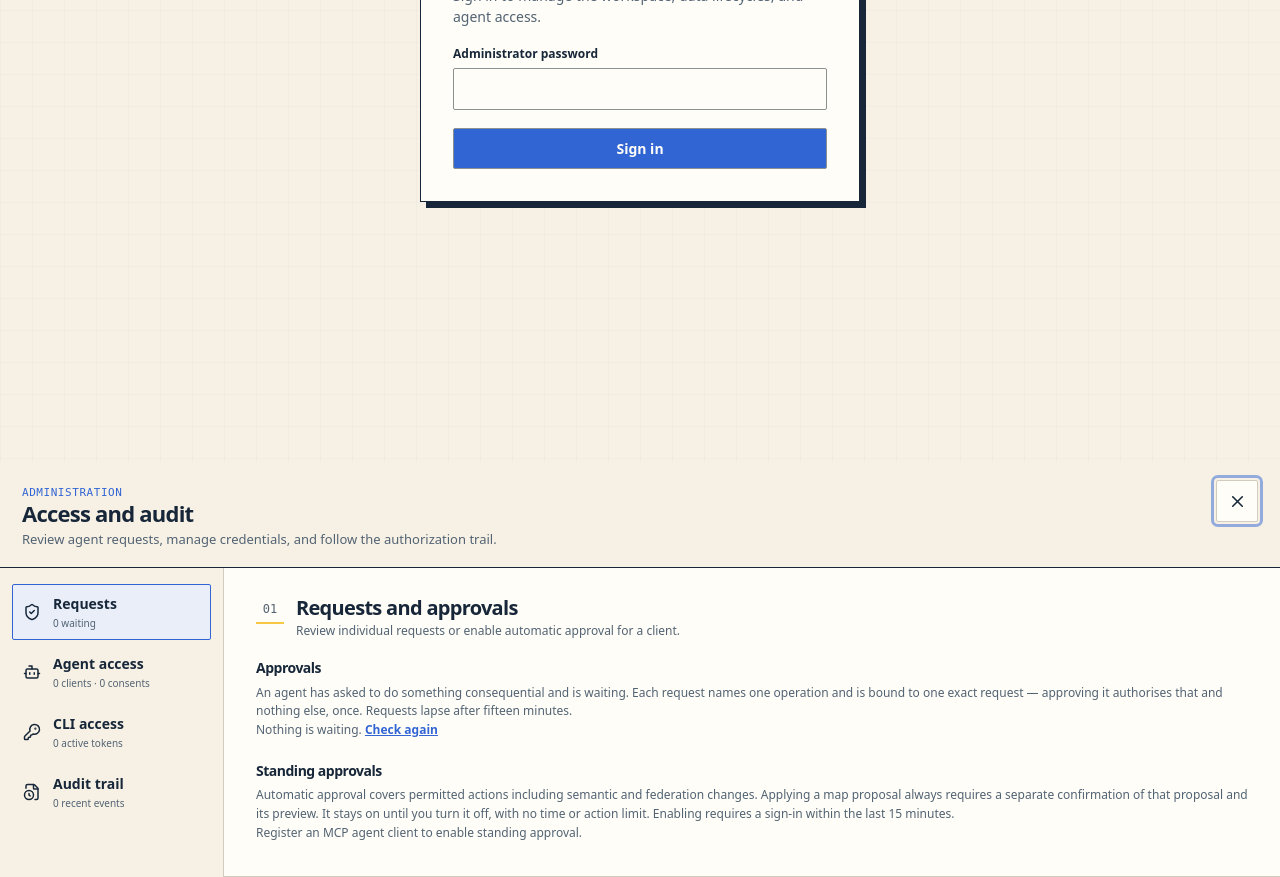
Scenario: Scoped token administration › hides empty pending devices and expands every stored token permission
(page scrolled)
Click the button "CLI access 0 active tokens" at (112, 732), box [12, 704, 211, 760]
(page scrolled)
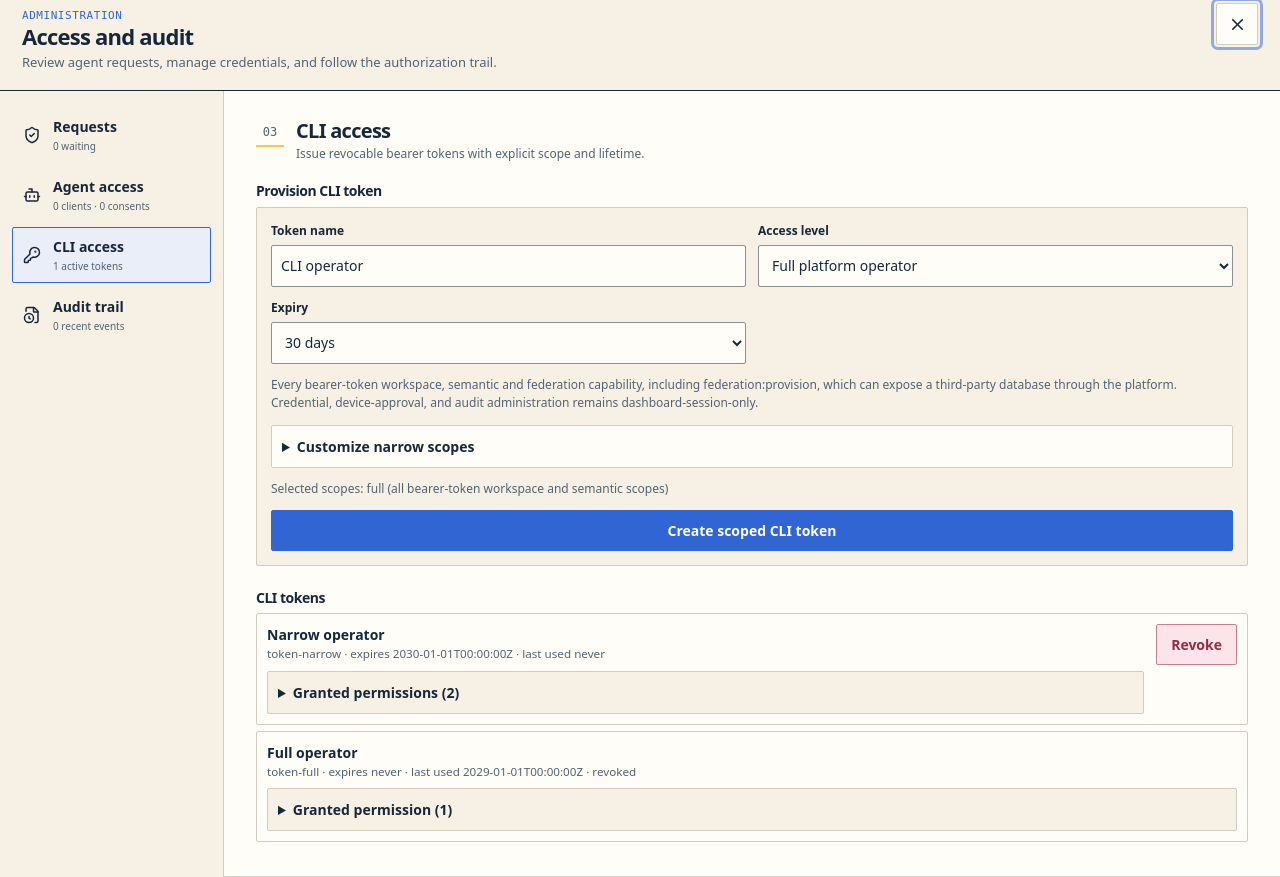
Check: the text "Narrow operator" is shown, box [267, 625, 385, 644]
Click the heading "Granted permissions (2)" at (376, 692), box [293, 683, 459, 702]
(page scrolled)
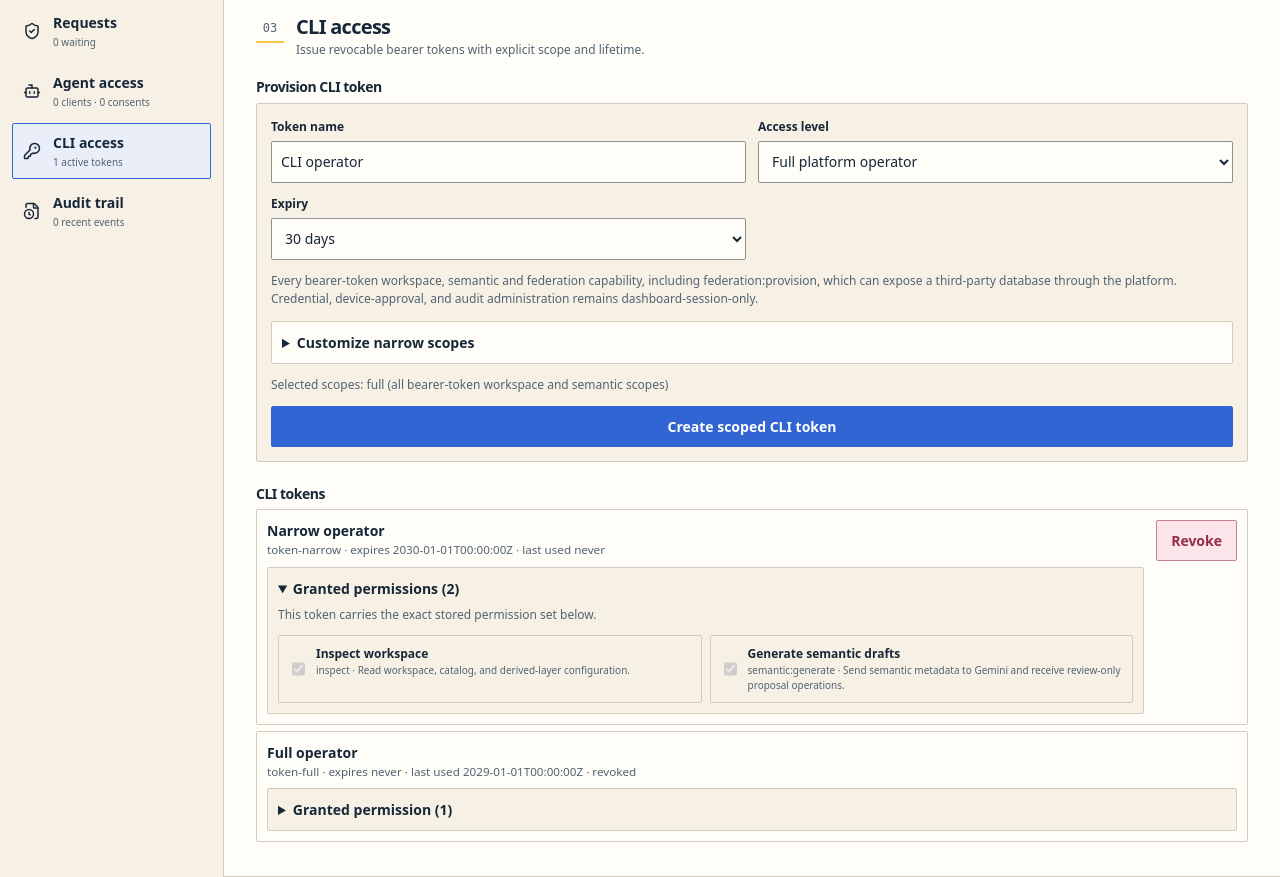
Check: the number of checkboxes is 2, box [292, 648, 305, 690]; [724, 648, 737, 690]
Check: the checkbox labelled "Inspect workspace" is checked, box [292, 648, 305, 690]
Check: the checkbox labelled "Inspect workspace" is disabled, box [292, 648, 305, 690]
Click the heading "Granted permission (1)" at (372, 810), box [293, 800, 452, 819]
(page scrolled)
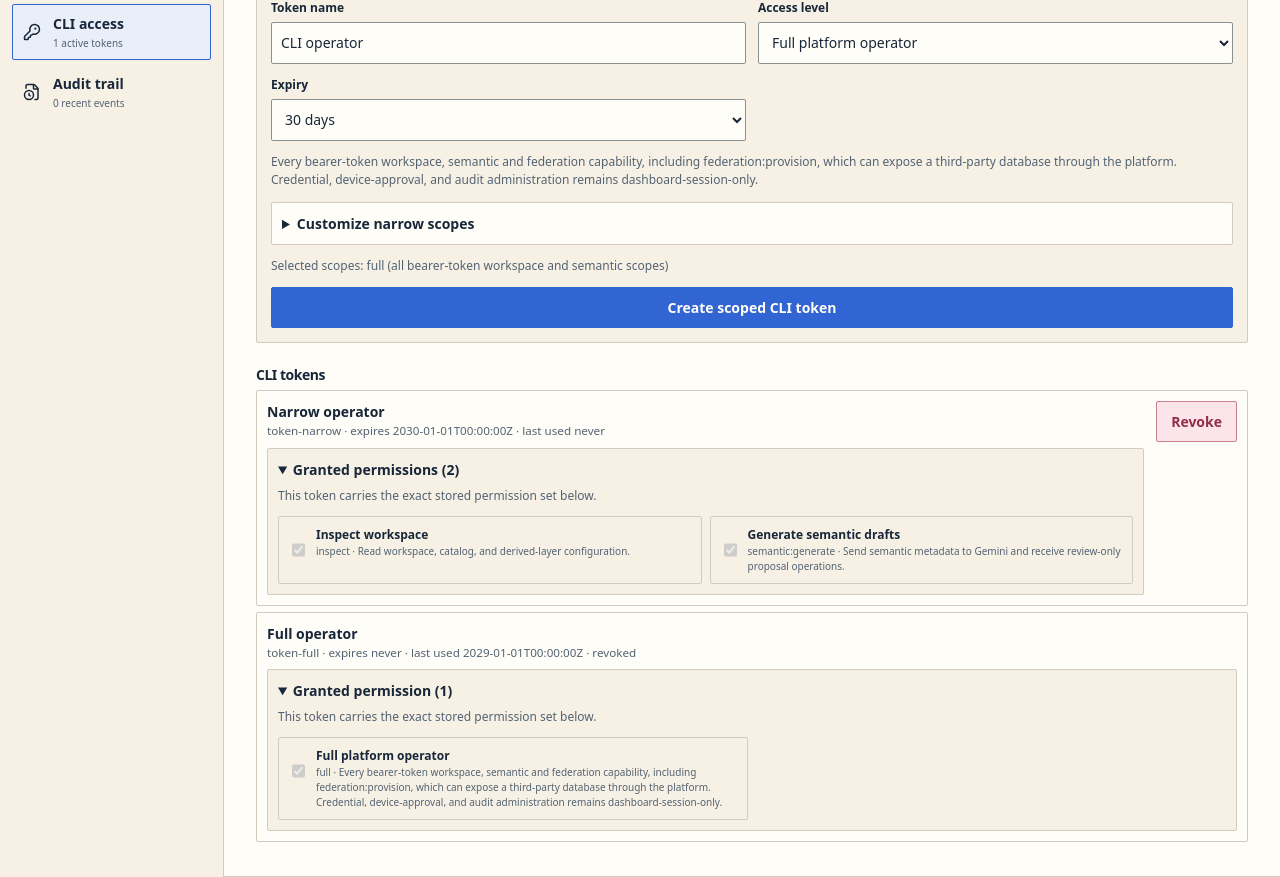
Check: the checkbox labelled "Full platform operator" is checked, box [292, 750, 305, 792]
Check: the checkbox labelled "Full platform operator" is disabled, box [292, 750, 305, 792]
